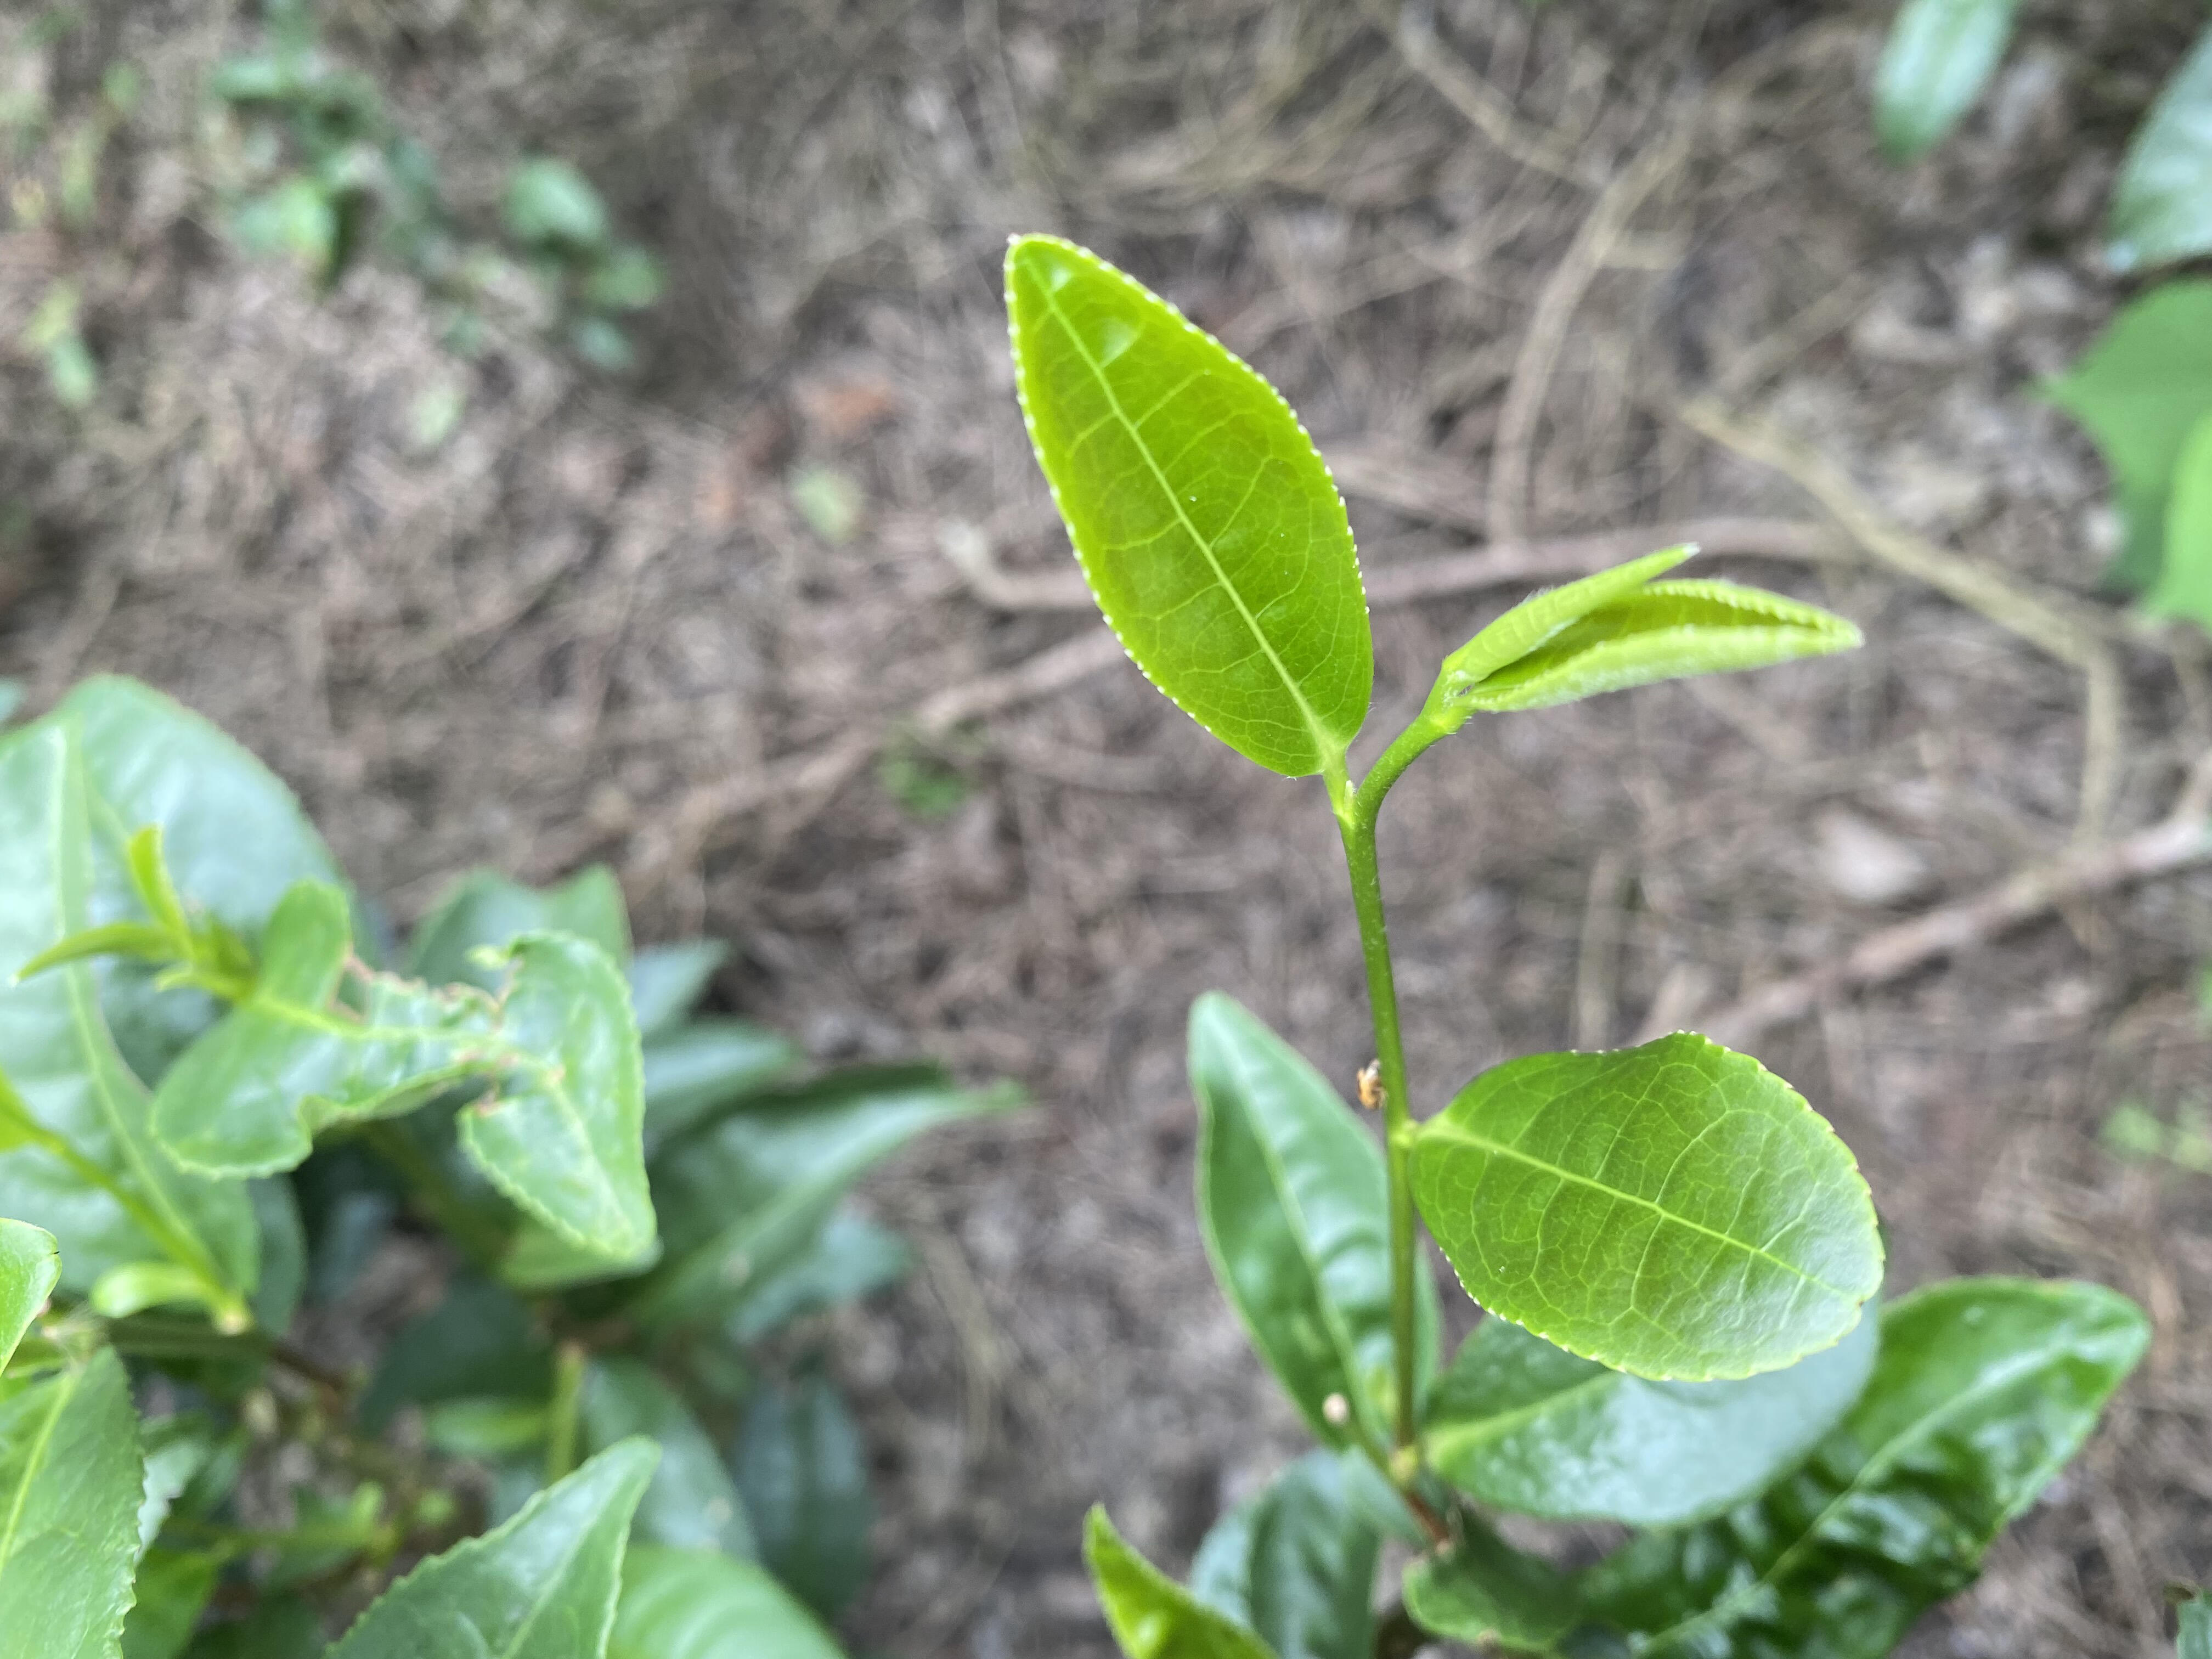chihuo_high: (145, 878, 660, 1263)
healthy: (1003, 235, 1379, 781), (1404, 1028, 1886, 1384)
